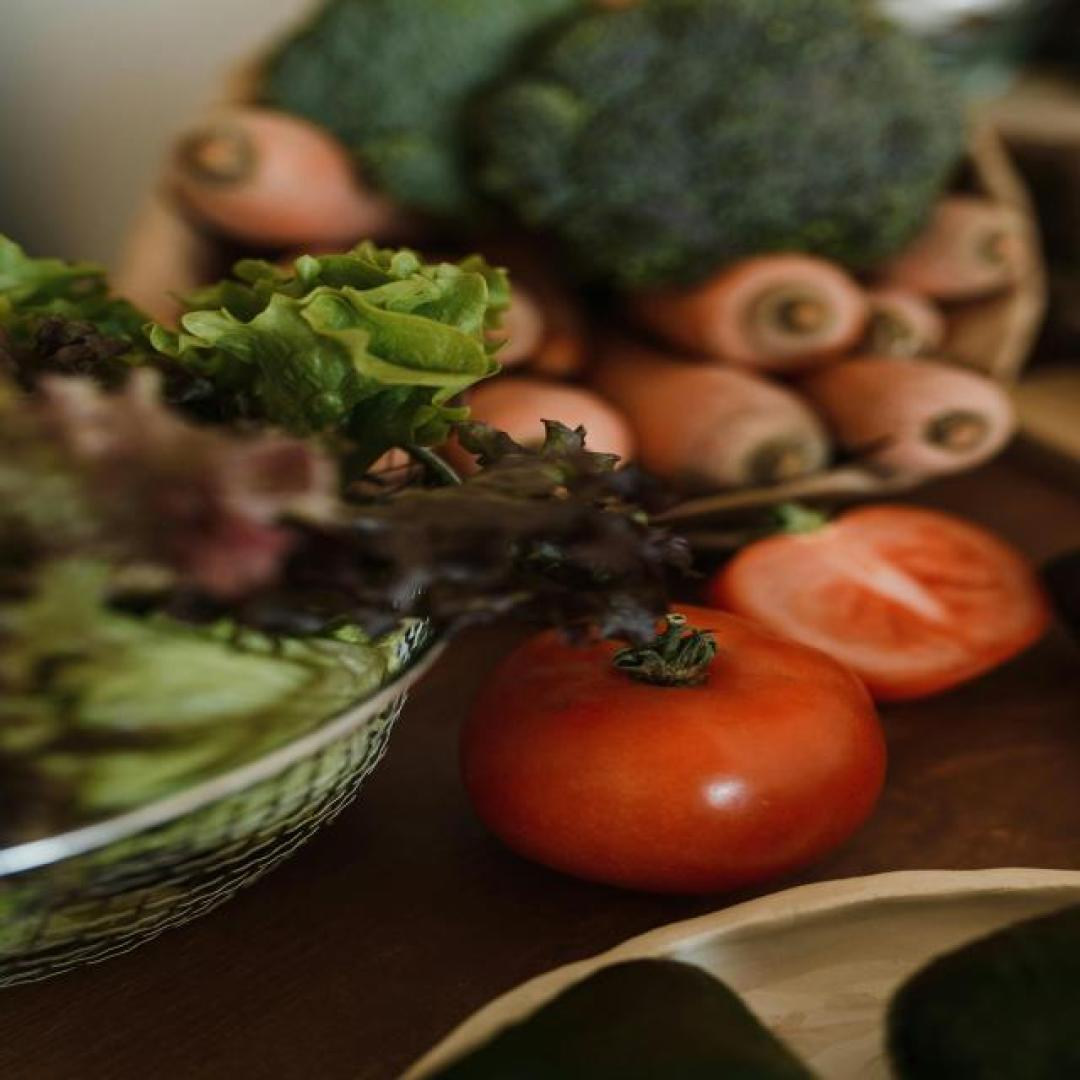matang: (457, 604, 888, 893)
